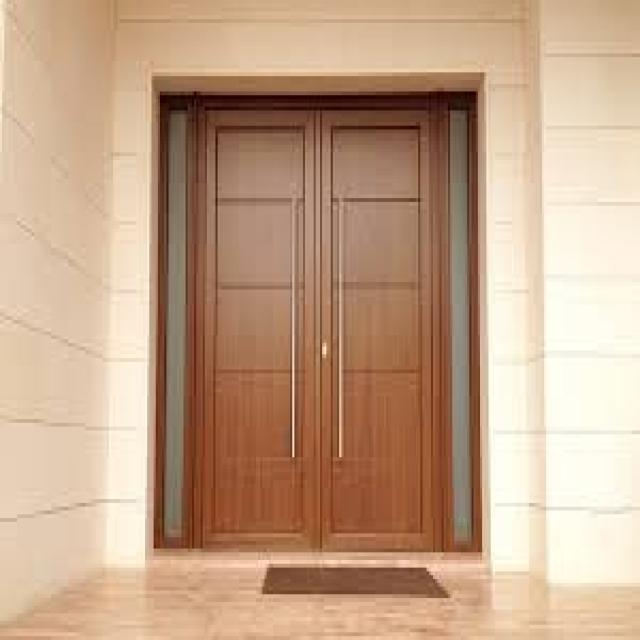door: (197, 95, 447, 552)
